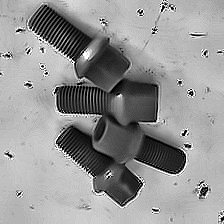holes: (1, 25, 56, 91), (131, 1, 180, 39), (187, 30, 224, 61), (171, 124, 198, 151), (174, 76, 200, 101), (193, 178, 214, 203), (2, 149, 16, 164), (97, 16, 112, 28), (214, 209, 224, 224), (14, 189, 27, 200), (150, 205, 161, 215)
